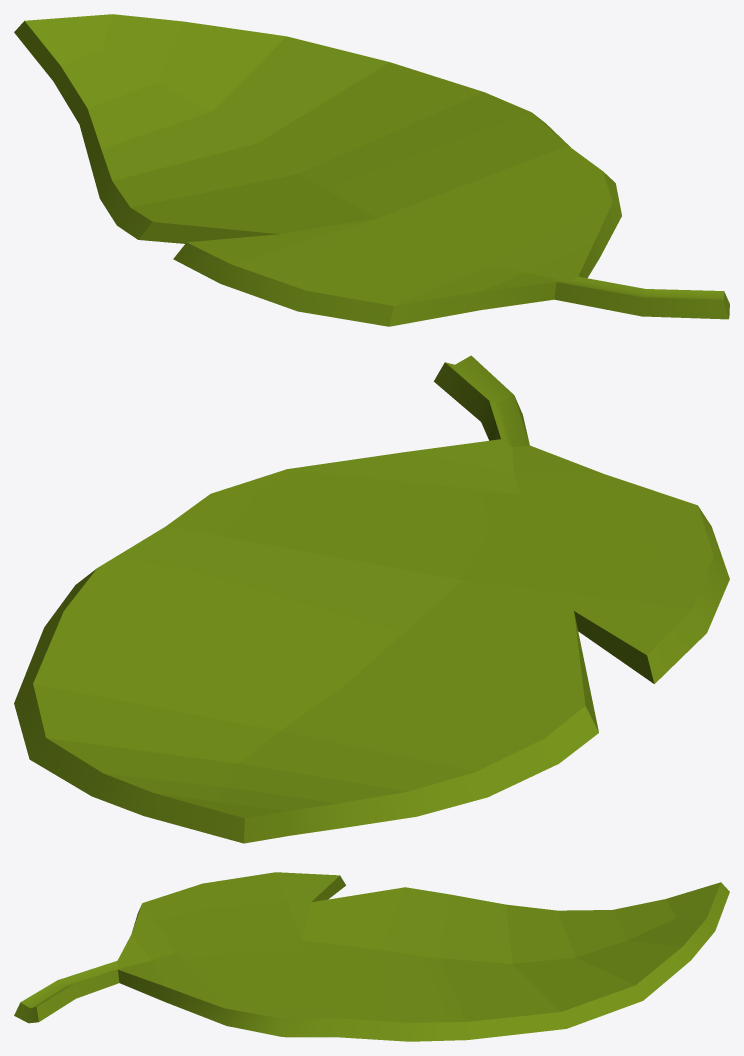
The model's file is leaf_03_low.fbx.
The picture shows the model from 3 angles, top to bottom: view 1: azimuth 30°, elevation 25°; view 2: azimuth 150°, elevation 25°; view 3: azimuth 270°, elevation 25°; orthographic projection. The views are drawn at different scales.
Visible parts, largest first — view 1: leaf_03_lod0; view 2: leaf_03_lod0; view 3: leaf_03_lod0.
Part boxes in pixels (<box>): leaf_03_lod0: <box>14,14,729,326</box>; leaf_03_lod0: <box>14,355,729,843</box>; leaf_03_lod0: <box>14,872,729,1041</box>.
Bounding box in the file's own units: 24.85 × 3.97 × 46.68.
